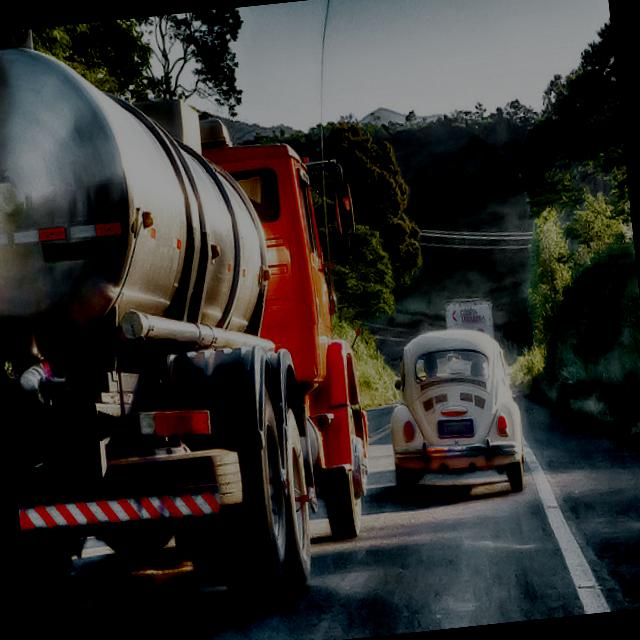Vehicle: (0, 0, 392, 620), (377, 318, 529, 512), (448, 358, 472, 373)
